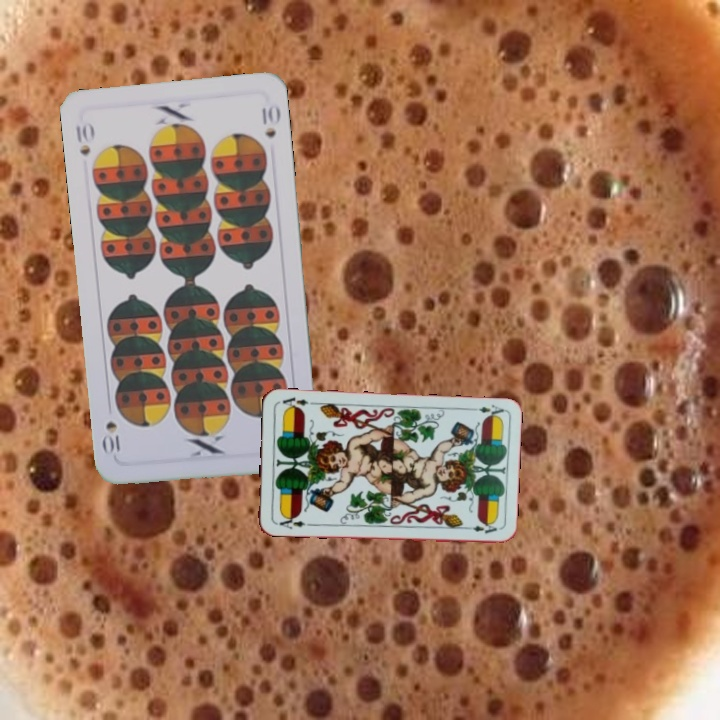EA: (272, 512, 312, 532), (465, 401, 506, 420)
S10: (71, 118, 96, 158)
